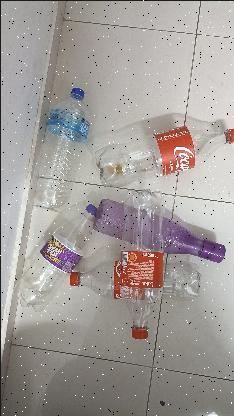Plastic Bottle: (96, 122, 232, 188), (40, 82, 88, 192), (117, 240, 161, 342), (7, 271, 67, 320), (166, 217, 226, 265), (36, 227, 90, 265)
